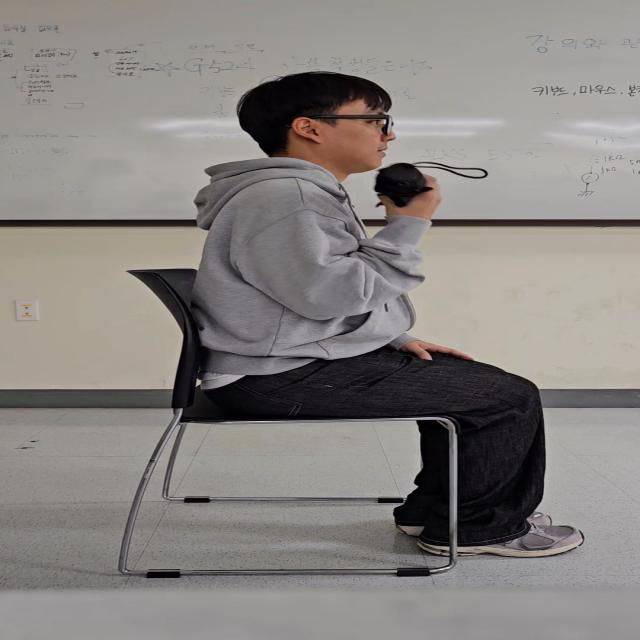curl: (190, 156, 476, 329)
